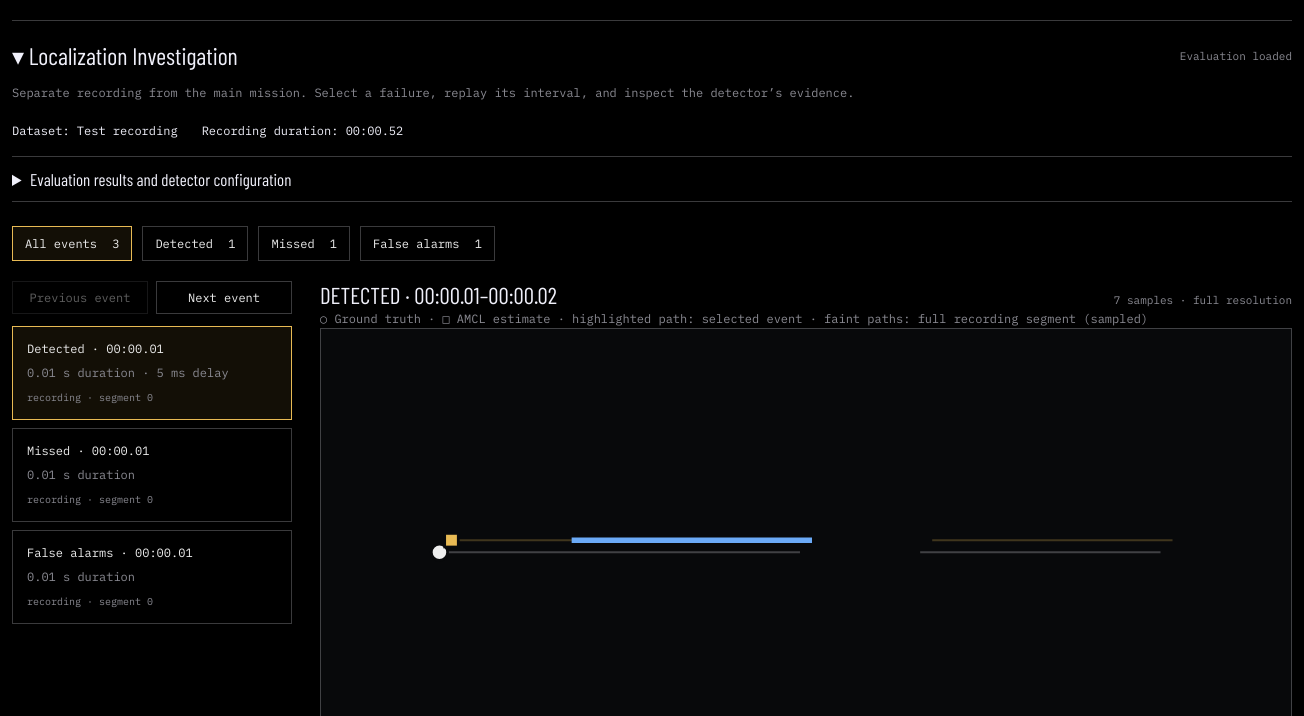
Test: does not replace selected event evidence when an older request finishes late
Click the button "Next event": click(224, 298) [156,281,292,314]
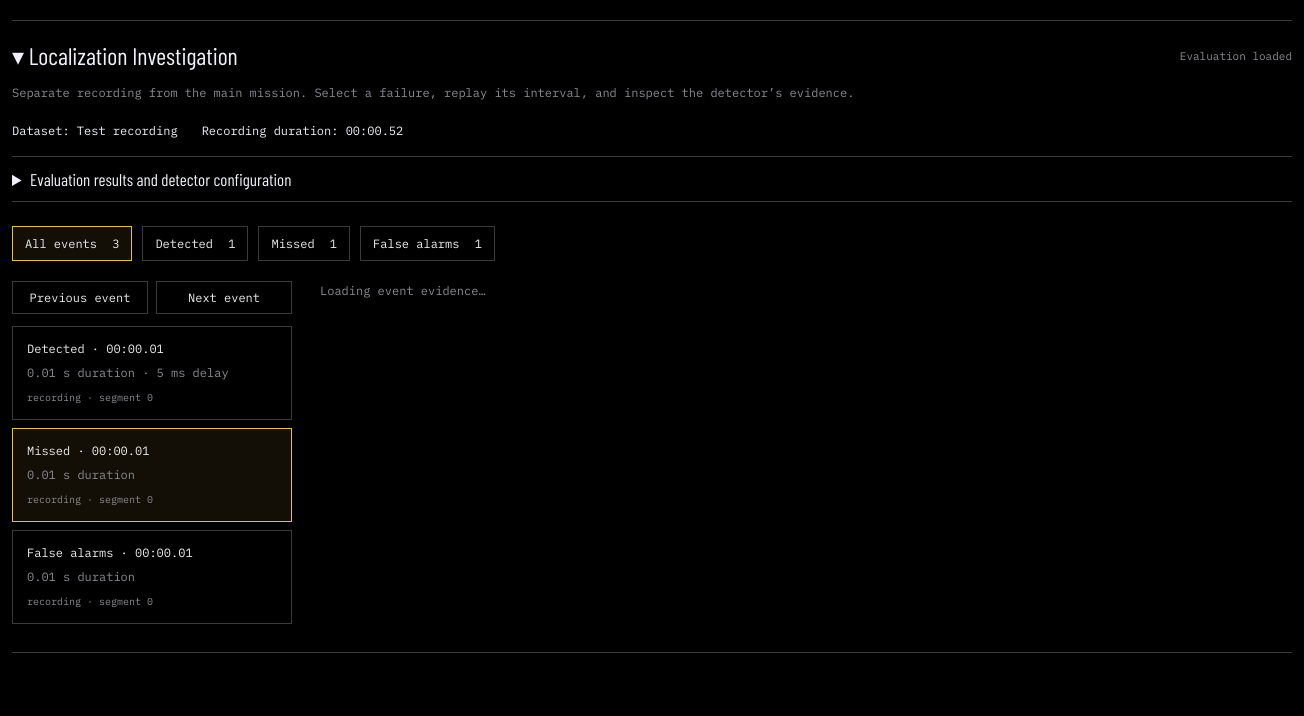
Click the button "Next event": click(224, 298) [156,281,292,314]
(page scrolled)
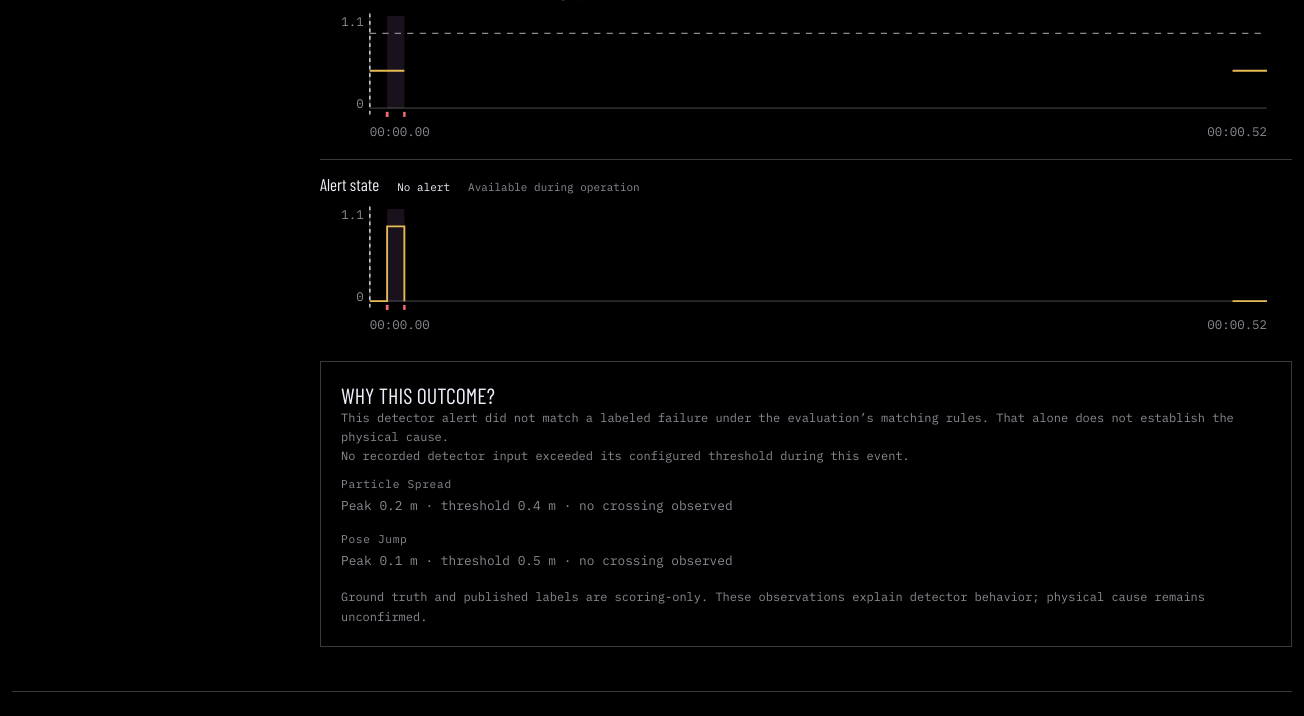
Check: the text "This detector alert did not match" is shown, box [341,410,1234,444]
